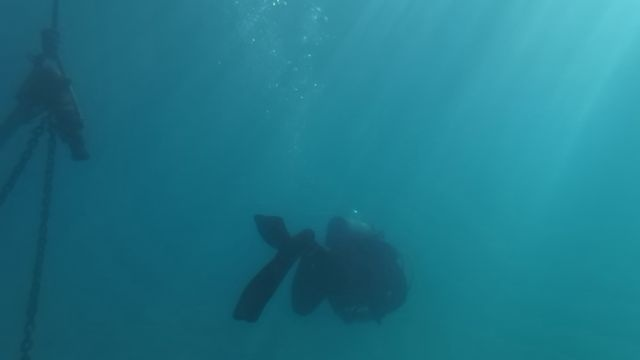Diver: (228, 210, 409, 332)
